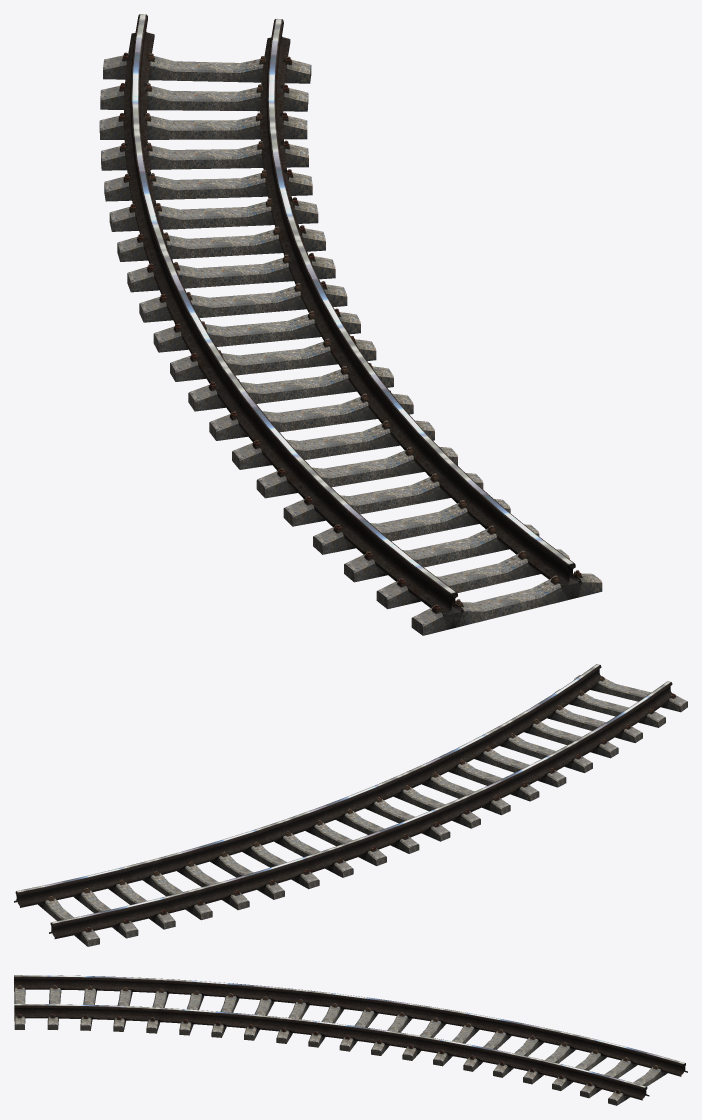
File: Beton_rail_-35.FBX
3 views of the same model, one above another, from view 1: azimuth 30°, elevation 25°; view 2: azimuth 150°, elevation 25°; view 3: azimuth 270°, elevation 25° (orthographic). The views are drawn at different scales.
Visible parts, largest first — view 1: Beton_rail_-35_LOD0; view 2: Beton_rail_-35_LOD0; view 3: Beton_rail_-35_LOD0.
Boxes of the visible parts, x1=… form: Beton_rail_-35_LOD0: x1=99, y1=14, x2=602, y2=635; Beton_rail_-35_LOD0: x1=14, y1=664, x2=687, y2=946; Beton_rail_-35_LOD0: x1=14, y1=975, x2=687, y2=1105.
Size of what is drawn, in the model's own units: 6.96 by 16.39 by 0.4774.
